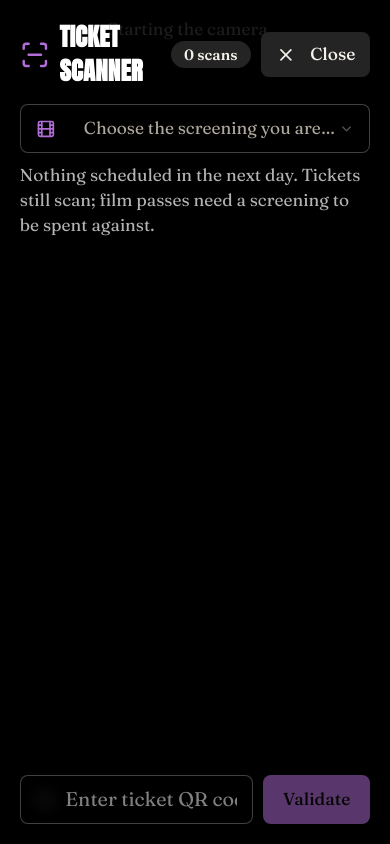
Test: TicketScanner - GA, event, and concert tickets › accepts a general-admission movie ticket and claims its check-in
The width and height of the screenshot is (390, 844).
Type "QR-GA-MOVIE" into the field with placeholder "Enter ticket QR code...".
click(137, 799); type("QR-GA-MOVIE")  # box [20,775,253,824]
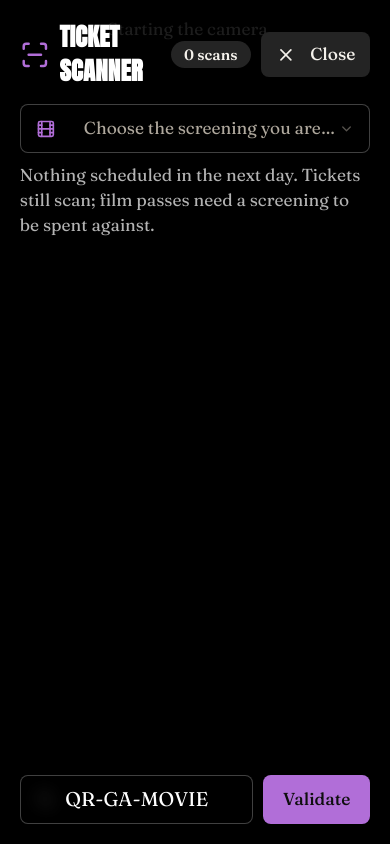
Click the button "Validate".
click(317, 799)  # box [263,775,370,824]
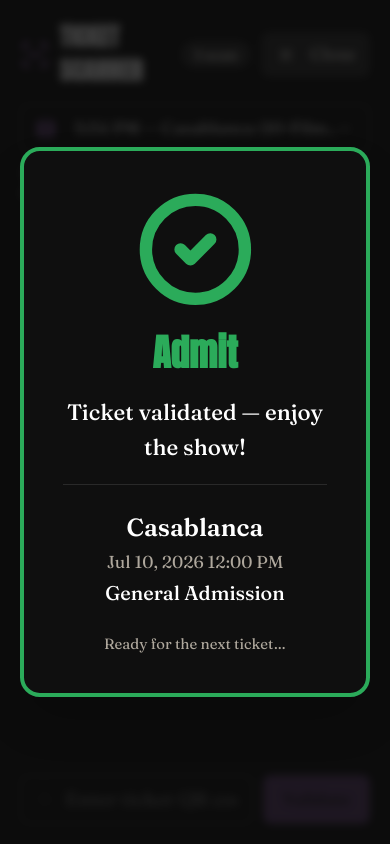
Check: the text "Ticket validated — enjoy the show!" is shown, box [63,395,327,464]
Check: the text "Casablanca" is shown, box [126,512,263,542]
Check: the text "General Admission" is shown, box [105,581,285,605]
